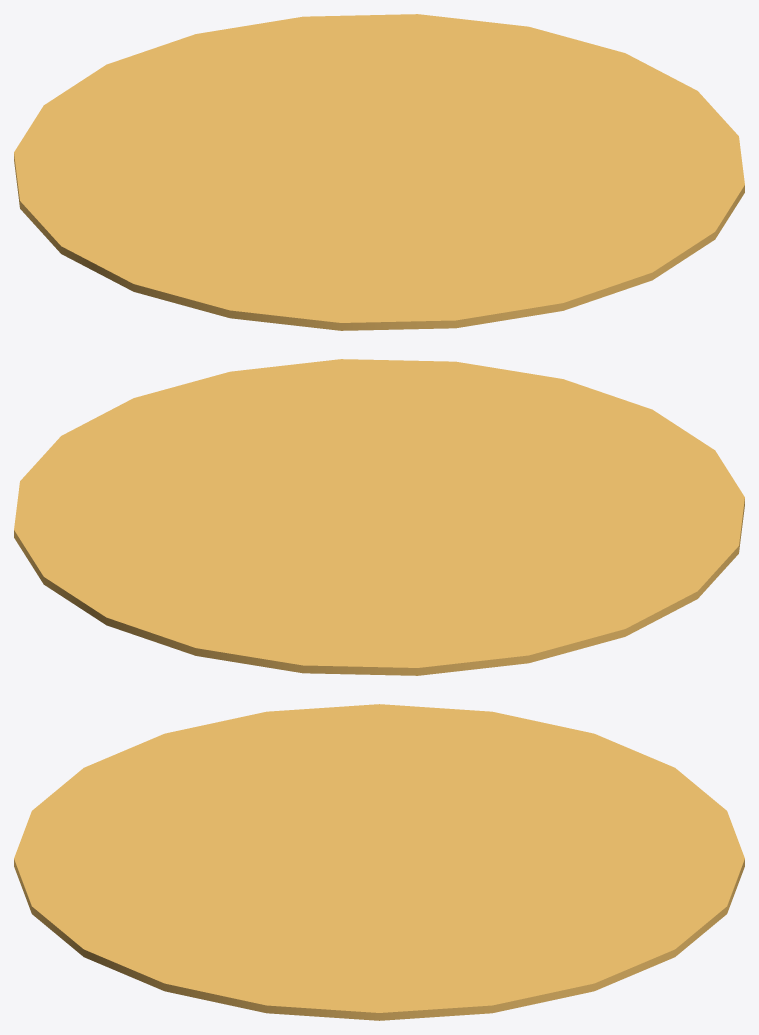
Rendered from PathIdentifiier.fbx.
The picture shows the model from 3 angles, top to bottom: view 1: azimuth 30°, elevation 25°; view 2: azimuth 150°, elevation 25°; view 3: azimuth 270°, elevation 25°; orthographic projection.
Parts seen in each view (by area): view 1: PathIdentifiier; view 2: PathIdentifiier; view 3: PathIdentifiier.
Boxes of the visible parts, bbox=[...] form: PathIdentifiier: bbox=[14, 14, 744, 330]; PathIdentifiier: bbox=[14, 359, 744, 675]; PathIdentifiier: bbox=[14, 704, 744, 1020].
Bounding box in the file's own units: 170 × 2 × 170.
1 material, 1 textured.
